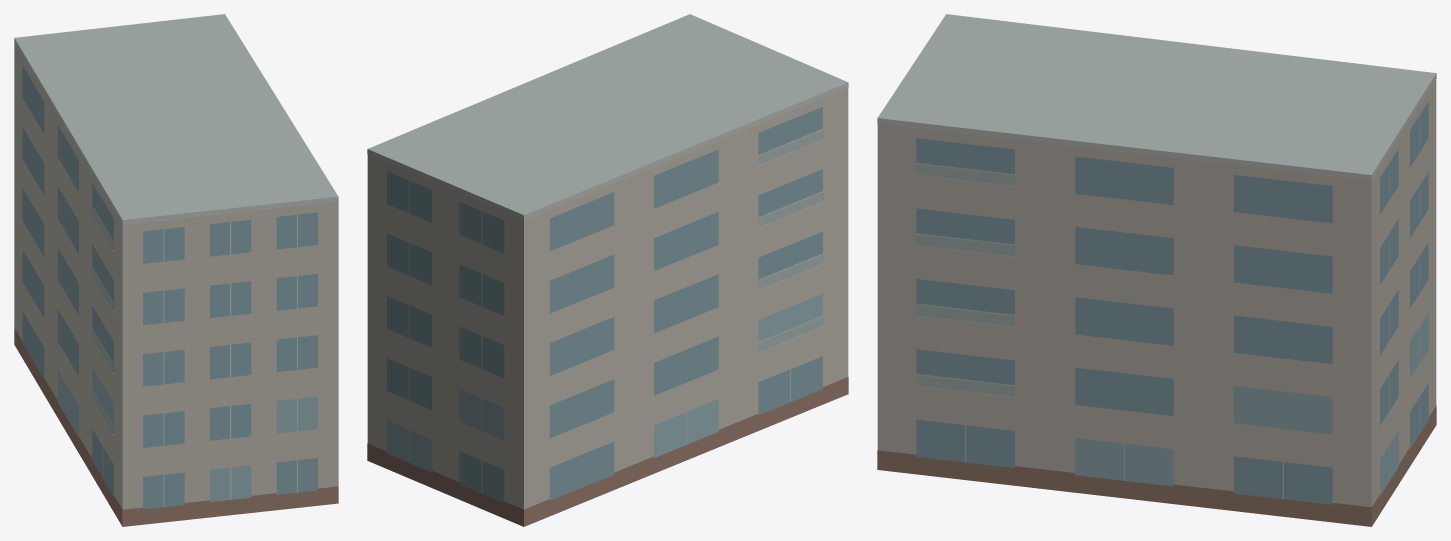
Rendered from survey-upis-32979805.glb.
The picture shows the model from 3 angles, left to right: view 1: azimuth 30°, elevation 25°; view 2: azimuth 150°, elevation 25°; view 3: azimuth 270°, elevation 25°; orthographic projection. The views are drawn at different scales.
Visible parts, largest first — view 1: survey-upis-32979805.tmp; view 2: survey-upis-32979805.tmp; view 3: survey-upis-32979805.tmp.
Boxes of the visible parts, bbox=[...] form: survey-upis-32979805.tmp: bbox=[14, 14, 338, 526]; survey-upis-32979805.tmp: bbox=[367, 14, 848, 526]; survey-upis-32979805.tmp: bbox=[877, 14, 1436, 526].
Bounding box in the file's own units: 14.55 × 14.8 × 21.32.
